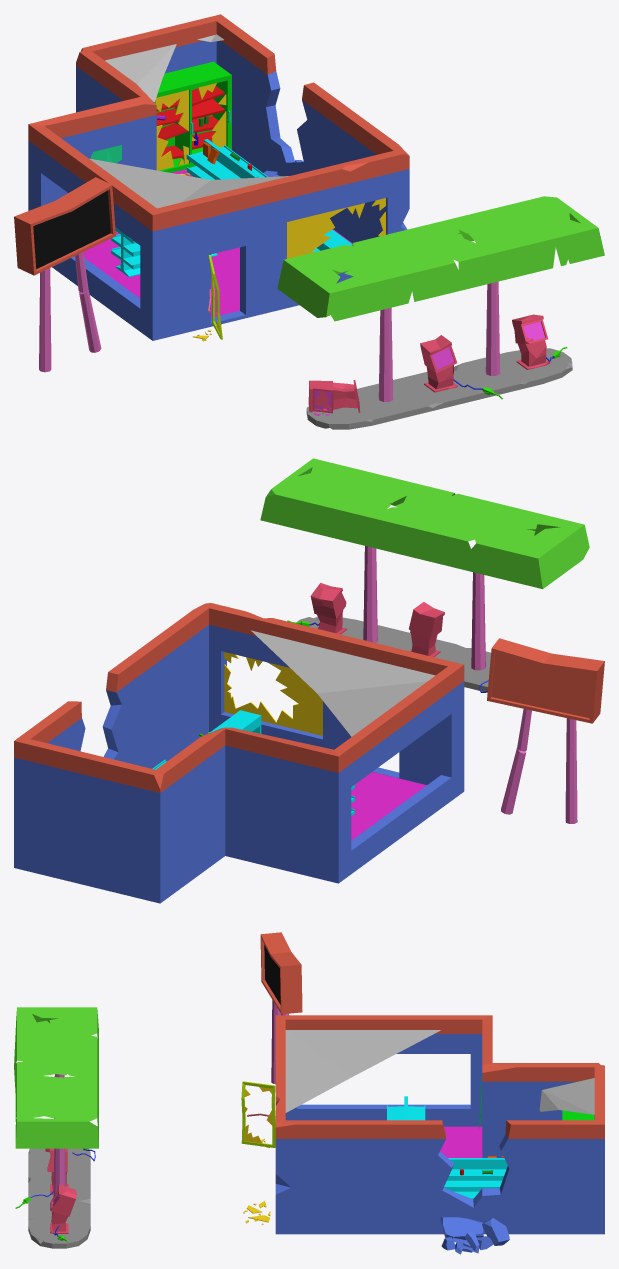
The model's file is GasStation.fbx.
3 views of the same model, one above another, from view 1: azimuth 30°, elevation 25°; view 2: azimuth 150°, elevation 25°; view 3: azimuth 270°, elevation 25° (orthographic). The views are drawn at different scales.
Parts seen in each view (by area): view 1: Cube.113; view 2: Cube.113; view 3: Cube.113.
Boxes of the visible parts, x1,y1,x2,y2 form: Cube.113: [14, 14, 604, 429]; Cube.113: [14, 458, 604, 903]; Cube.113: [14, 932, 604, 1254].
Size of the model in its own units: 2856 by 1060 by 3823.
